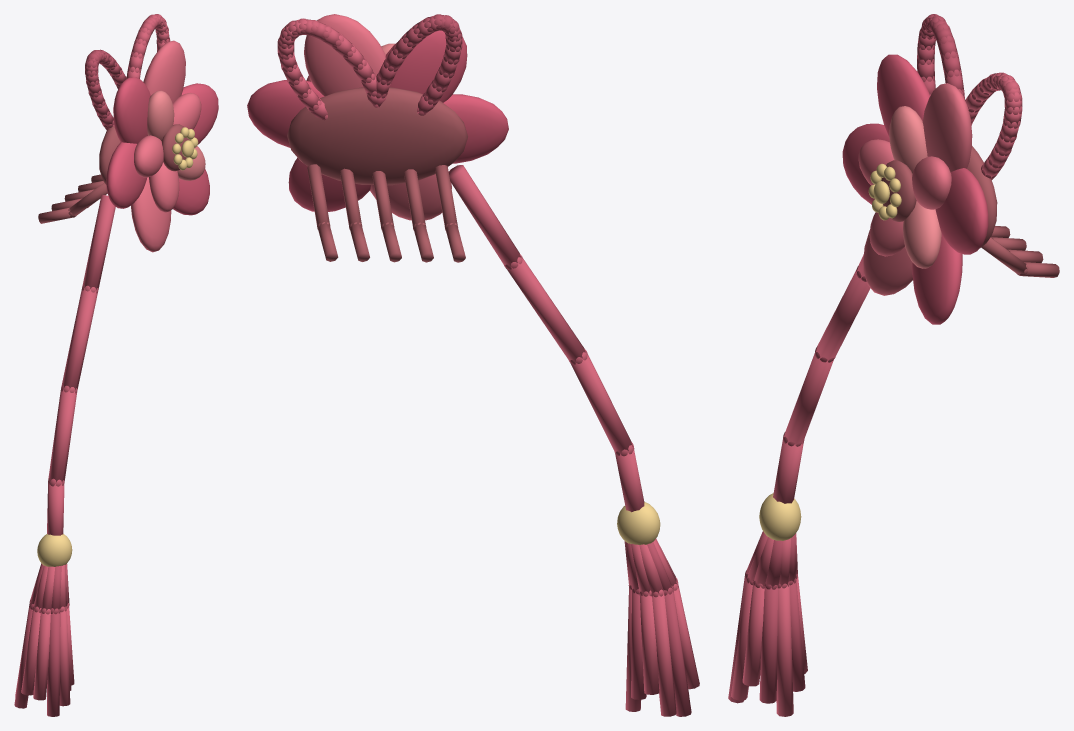
Rendered from side_hagi_flower_comb.glb.
3 renders of one model, left to right at view 1: azimuth 30°, elevation 25°; view 2: azimuth 150°, elevation 25°; view 3: azimuth 270°, elevation 25°, orthographic. The views are drawn at different scales.
Parts seen in each view (by area): view 1: cord, red, crimson, cord_shadow, lacquer, brass, rose; view 2: lacquer, cord, crimson, cord_shadow, red, brass; view 3: cord, crimson, red, cord_shadow, lacquer, rose, brass.
Part boxes in pixels (box(x1,y1,x2,y2)): cord: box(15, 14, 170, 706); red: box(131, 40, 201, 252); crimson: box(106, 77, 218, 215); cord_shadow: box(14, 49, 127, 716); lacquer: box(38, 124, 189, 223); brass: box(37, 127, 198, 566); rose: box(147, 90, 205, 180); lacquer: box(287, 87, 467, 262); cord: box(277, 18, 699, 716); crimson: box(247, 30, 508, 211); cord_shadow: box(376, 14, 691, 716); red: box(304, 14, 451, 220); brass: box(617, 502, 660, 544); cord: box(730, 72, 1022, 716); crimson: box(842, 54, 988, 324); red: box(858, 83, 972, 295); cord_shadow: box(728, 14, 964, 703); lacquer: box(881, 146, 1059, 277); rose: box(889, 106, 941, 268); brass: box(759, 163, 901, 540).
Size of the model in its own units: 6.26 by 12.39 by 4.89.
